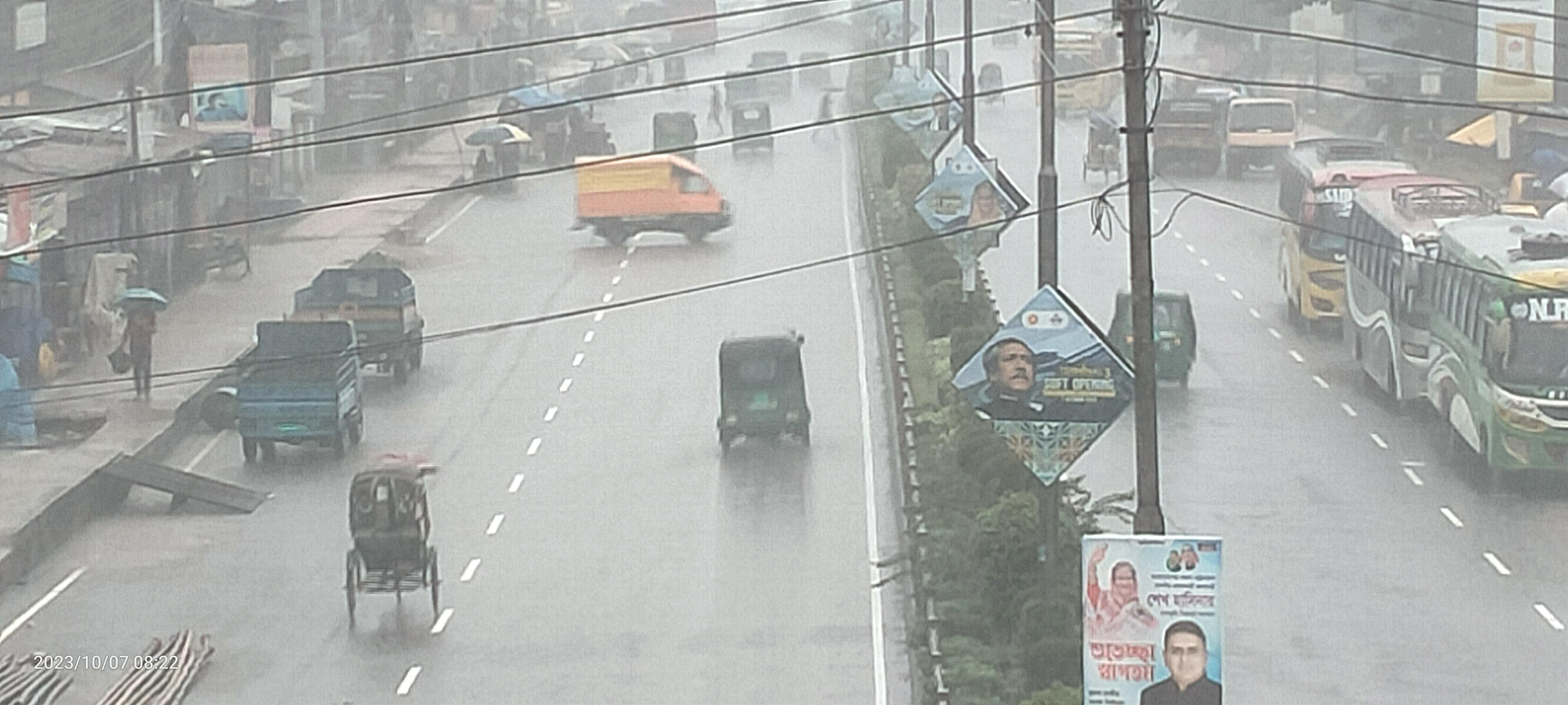Bus: (1421, 183, 1568, 512), (1336, 160, 1443, 428), (1258, 130, 1378, 346), (640, 0, 737, 58)
Car: (317, 440, 505, 650), (535, 147, 748, 274), (1052, 107, 1137, 188), (960, 49, 1022, 121)
Truck: (174, 293, 389, 470), (252, 218, 442, 390), (1129, 74, 1250, 197), (1218, 85, 1320, 205)
